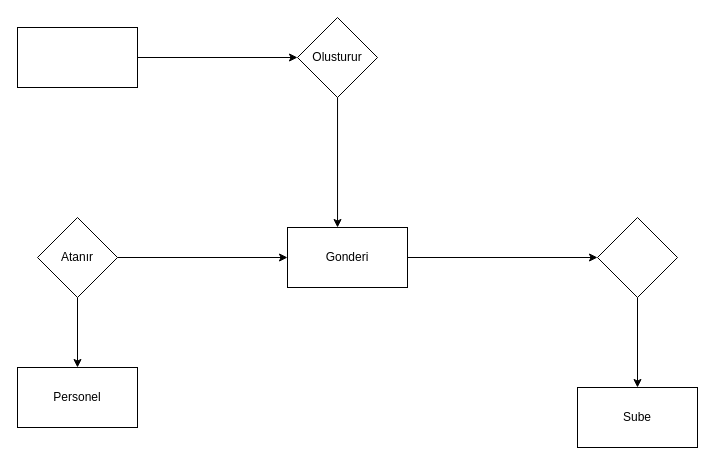
This 715x465 diagram has some shape labels left out. The shapes that lost their labels are listed below. From the top down, each one's centre as x and y in pixels, then its label:
pixel 77 57: Müsteri
pixel 637 257: Teslim edilir
